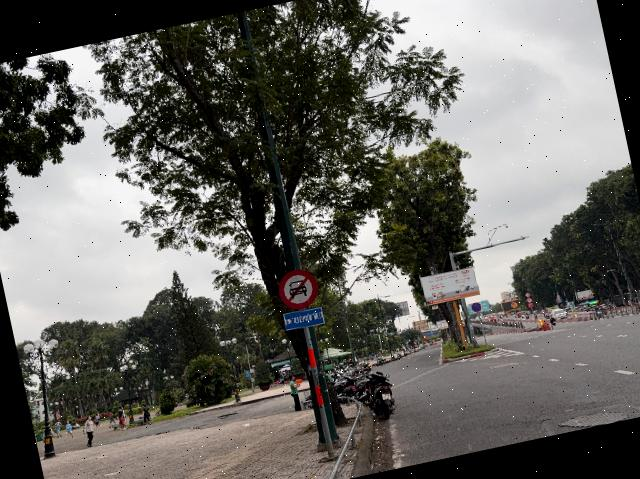cam-o-to: (274, 267, 320, 313)
